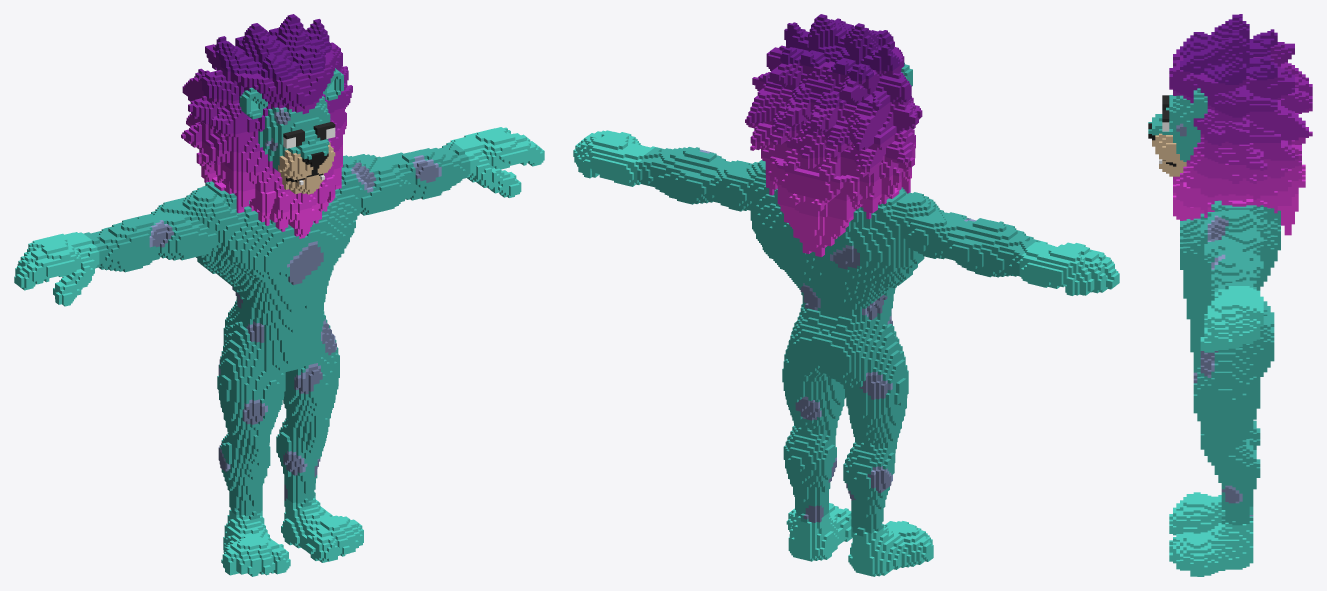
The model's file is 956-DGz4EvvQ.glb.
The picture shows the model from 3 angles, left to right: view 1: azimuth 30°, elevation 25°; view 2: azimuth 150°, elevation 25°; view 3: azimuth 270°, elevation 25°; orthographic projection. The views are drawn at different scales.
Visible parts, largest first — view 1: standard; view 2: standard; view 3: standard.
Part boxes in pixels (x1,y1,x2,y2): standard: (14, 14, 544, 576); standard: (573, 14, 1119, 576); standard: (1148, 14, 1312, 576).
Bounding box in the file's own units: 17.2 × 16.5 × 4.7.
4 materials, 4 textured.
